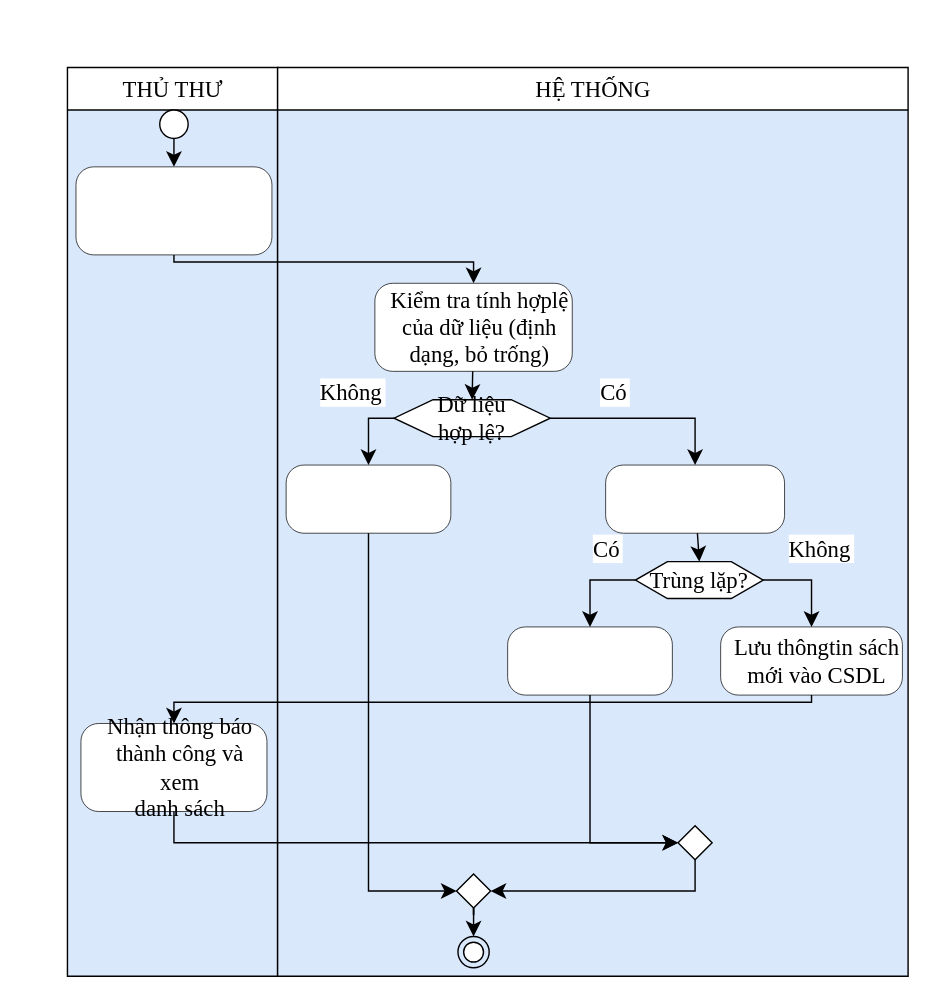
This 933x1001 diagram has some shape labels left out. The shapes that lost their labels are listed below. From the top down, each one's centre as x and y in pixels, then its label:
At pixel 173 210: "Nhập thông tinsách (Tên, Năm XB, SL, Thể loại, NXB)".
At pixel 368 498: "Từ chối và thôngbáo lý do".
At pixel 694 498: "Kiểm tra trùngmã đầu sách.".
At pixel 589 660: "Từ chối vàthông báo lý do".
